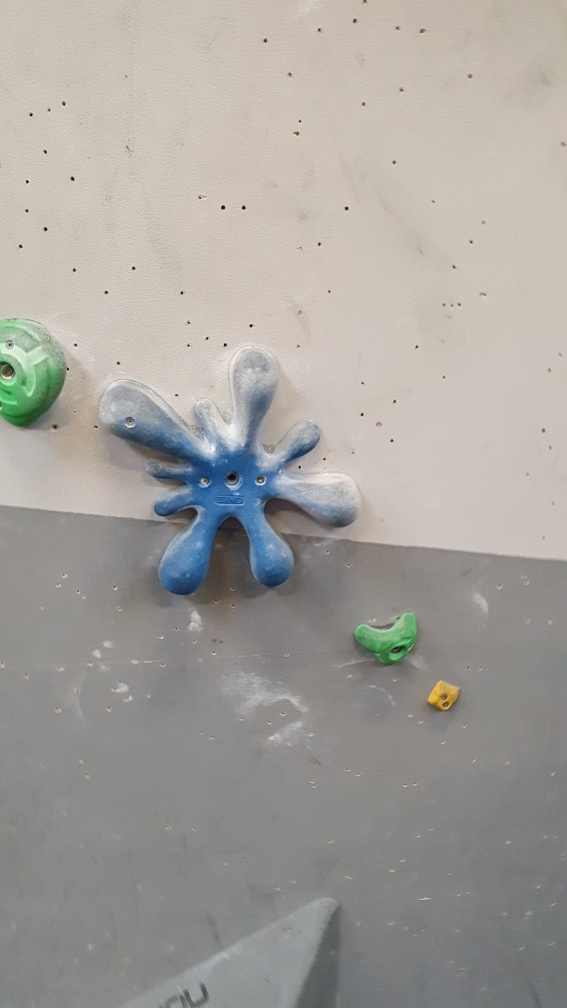Jug: (347, 606, 421, 668)
Octopus Pinch: (95, 341, 366, 605)
